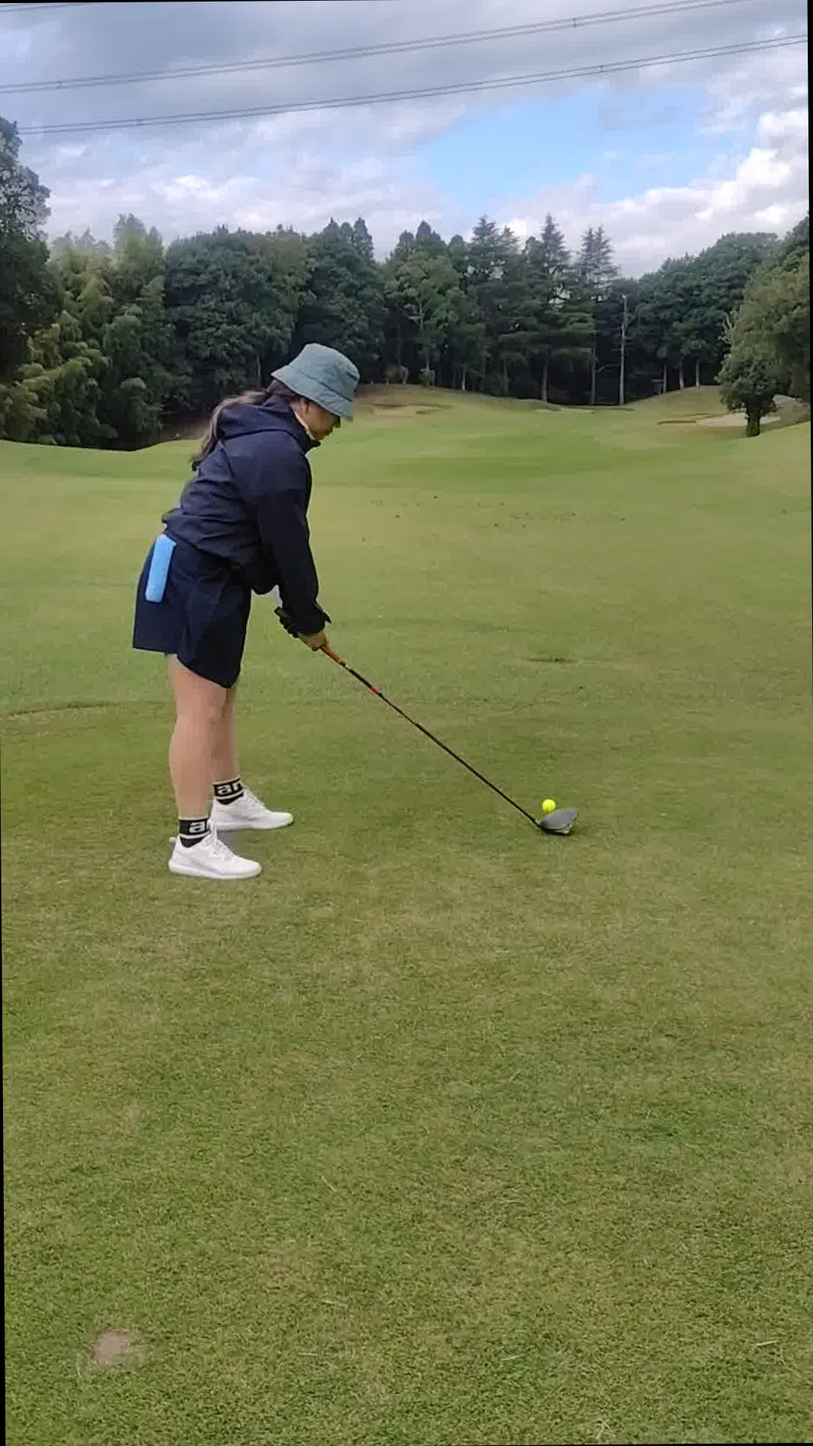clubhead: (407, 723, 683, 918)
